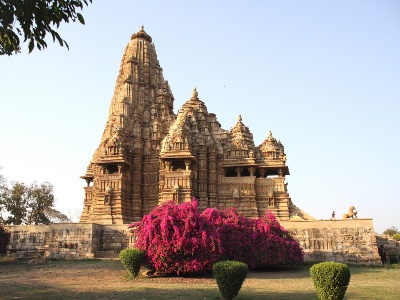amalaka: (124, 28, 163, 44)
gopuram: (109, 37, 186, 136)
mandapa: (155, 147, 202, 178), (255, 156, 297, 190), (214, 151, 257, 182), (90, 155, 133, 180)
